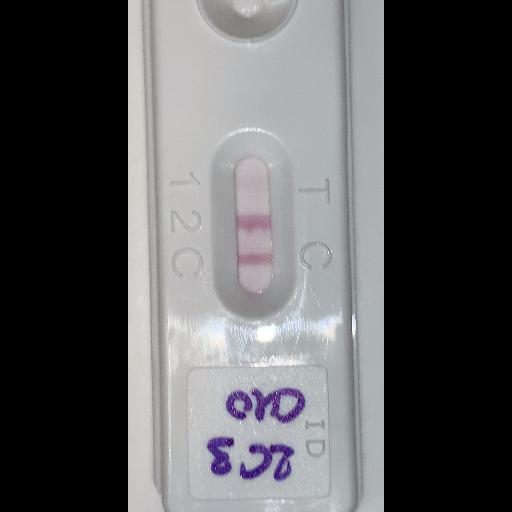Pos: (146, 0, 361, 512)
